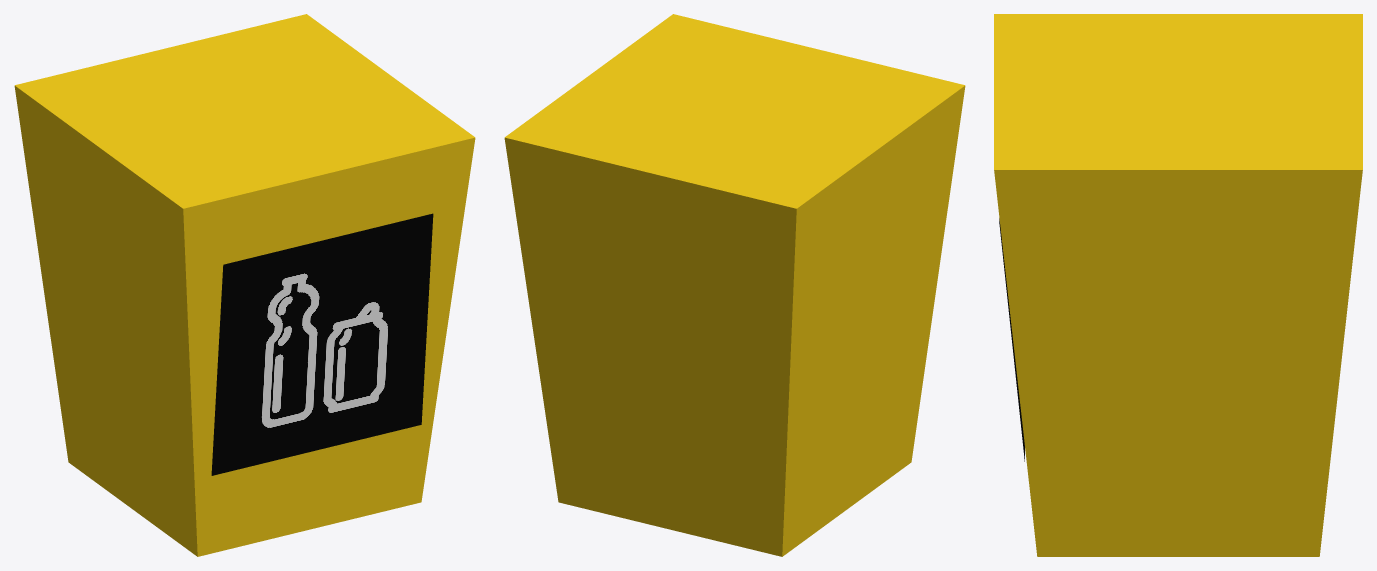
Rendered from MetalTrash.fbx.
3 views of the same model, side by side, from view 1: azimuth 30°, elevation 25°; view 2: azimuth 150°, elevation 25°; view 3: azimuth 270°, elevation 25° (orthographic). The views are drawn at different scales.
Parts seen in each view (by area): view 1: MetalTrash, metal; view 2: MetalTrash; view 3: MetalTrash.
Boxes of the visible parts, x1,y1,x2,y2 form: MetalTrash: (14, 14, 475, 556); metal: (211, 213, 433, 475); MetalTrash: (504, 14, 965, 556); MetalTrash: (994, 14, 1362, 556).
Bounding box in the file's own units: 41.17 × 49.93 × 41.17.
2 materials, 1 textured.
